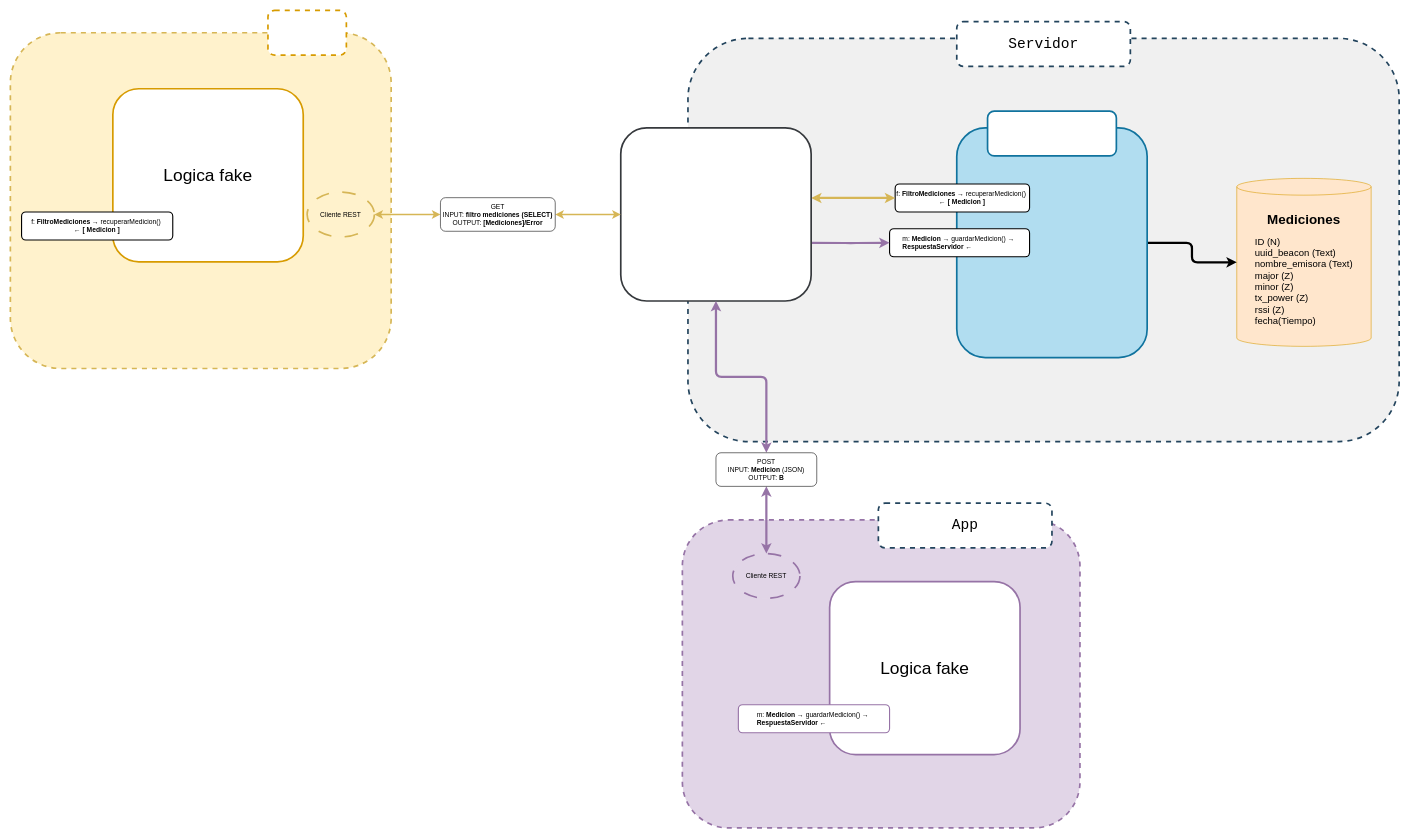
Some shapes in this 1410 by 838 pixel diagram are drawn without their labels. Each missing label, with the box of its shape:
Logica de negocio: (986, 110, 1117, 157)
Servidor Rest (API REST): (620, 127, 812, 302)
WEB: (267, 9, 347, 56)
